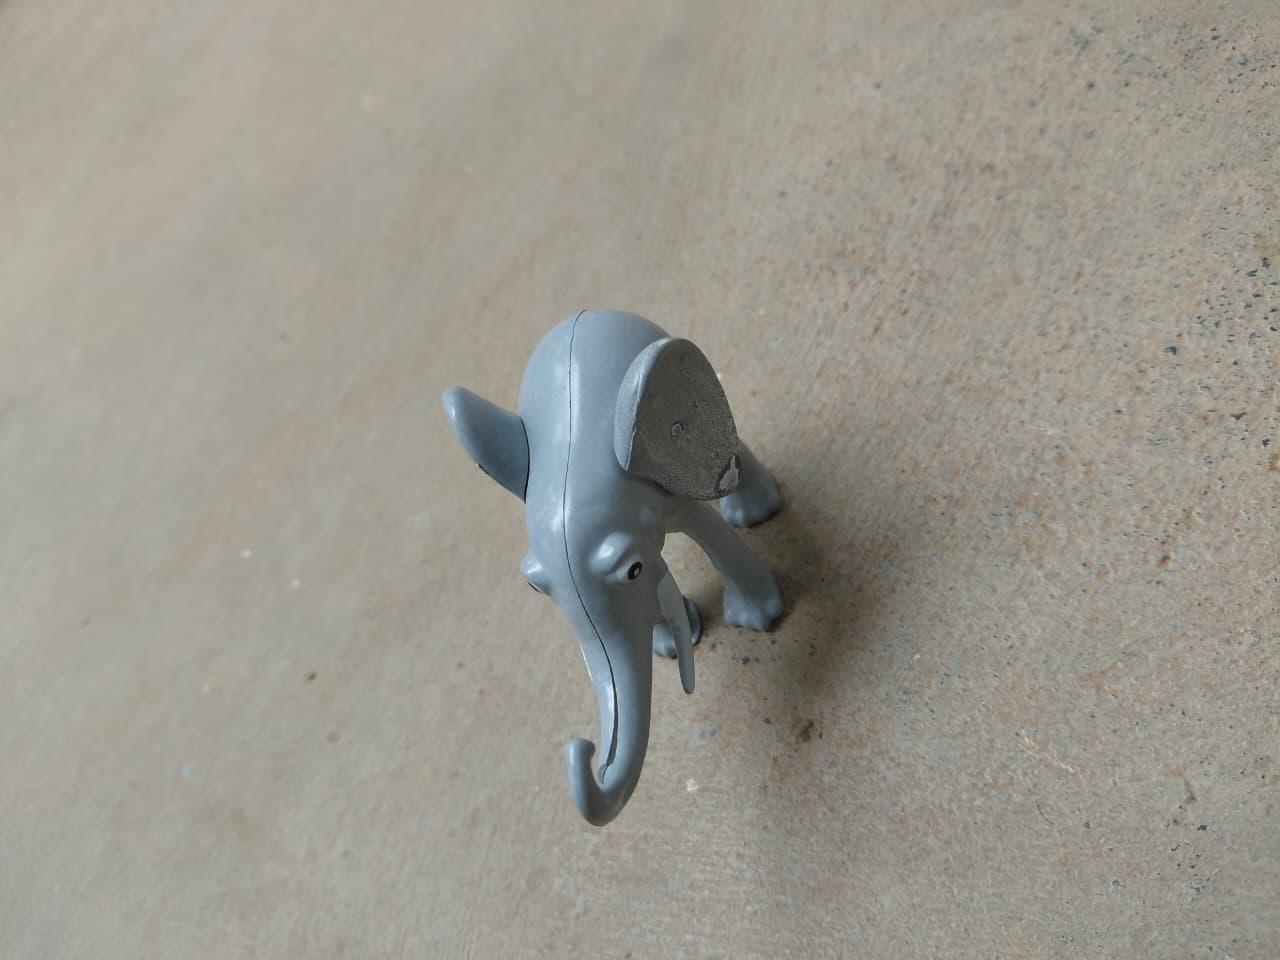elephant: (406, 292, 814, 829)
